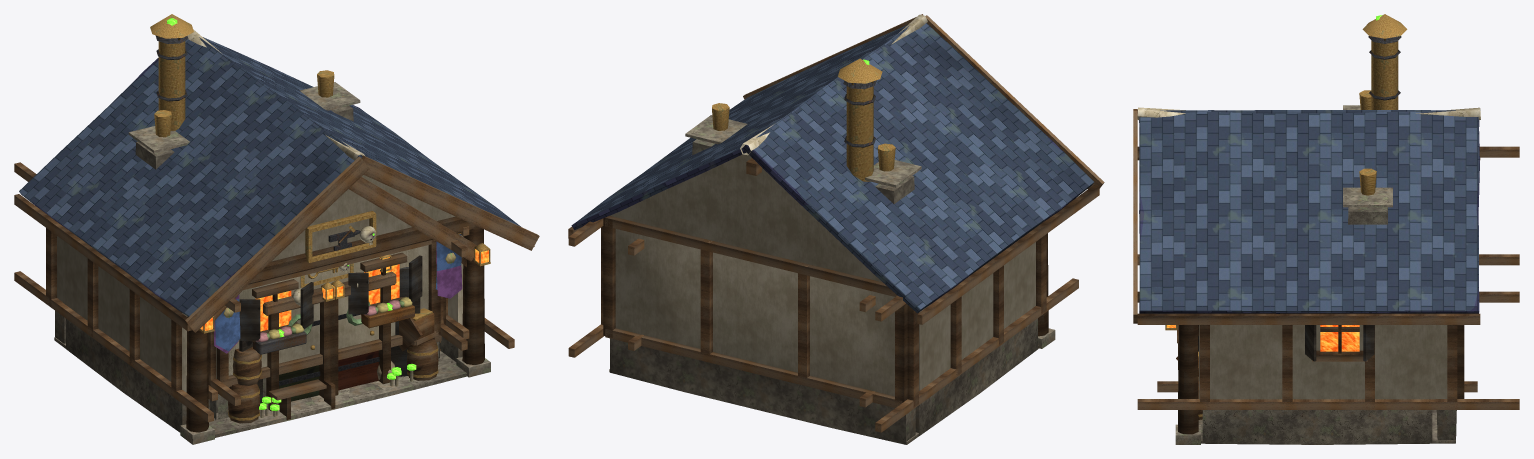
Rendered from backtown_kit.glb.
3 views of the same model, side by side, from view 1: azimuth 30°, elevation 25°; view 2: azimuth 150°, elevation 25°; view 3: azimuth 270°, elevation 25° (orthographic). The views are drawn at different scales.
Visible parts, largest first — view 1: D_Workshop, D_Cottage, D_CottageB, D_Stores, G_Workshop, G_Cottage, G_CottageB; view 2: D_Workshop, G_Workshop, D_Cottage, D_CottageB; view 3: D_Workshop, G_Workshop, D_CottageB, D_Cottage.
Part boxes in pixels (<box>): D_Workshop: <box>14,14,539,444</box>; D_Cottage: <box>128,110,476,419</box>; D_CottageB: <box>218,70,440,418</box>; D_Stores: <box>208,226,469,423</box>; G_Workshop: <box>32,18,462,353</box>; G_Cottage: <box>253,280,416,386</box>; G_CottageB: <box>259,287,414,417</box>; D_Workshop: <box>568,14,1104,444</box>; G_Workshop: <box>571,14,1077,310</box>; D_Cottage: <box>628,143,921,407</box>; D_CottageB: <box>685,103,747,155</box>; D_Workshop: <box>1133,14,1519,444</box>; G_Workshop: <box>1137,15,1480,313</box>; D_CottageB: <box>1343,168,1392,224</box>; D_Cottage: <box>1157,90,1477,392</box>.
Size of the model in its own units: 7.15 by 6.54 by 6.88.
13 materials, 13 textured.
